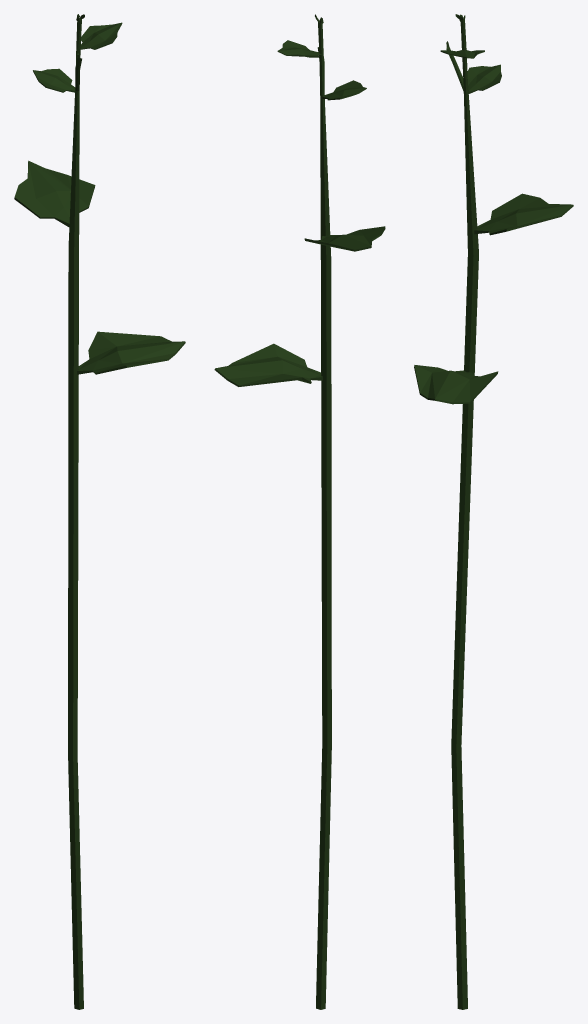
3 views of the same model, side by side, from view 1: azimuth 30°, elevation 25°; view 2: azimuth 210°, elevation 25°; view 3: azimuth 270°, elevation 25° (orthographic).
Visible parts, largest first — view 1: 冬葵_polySurface5; view 2: 冬葵_polySurface5; view 3: 冬葵_polySurface5.
Boxes of the visible parts, <box> form: 冬葵_polySurface5: <box>14,14,185,1009</box>; 冬葵_polySurface5: <box>214,14,385,1009</box>; 冬葵_polySurface5: <box>414,14,573,1009</box>.
Size of the model in its own units: 5.44 by 5.9 by 40.53.
